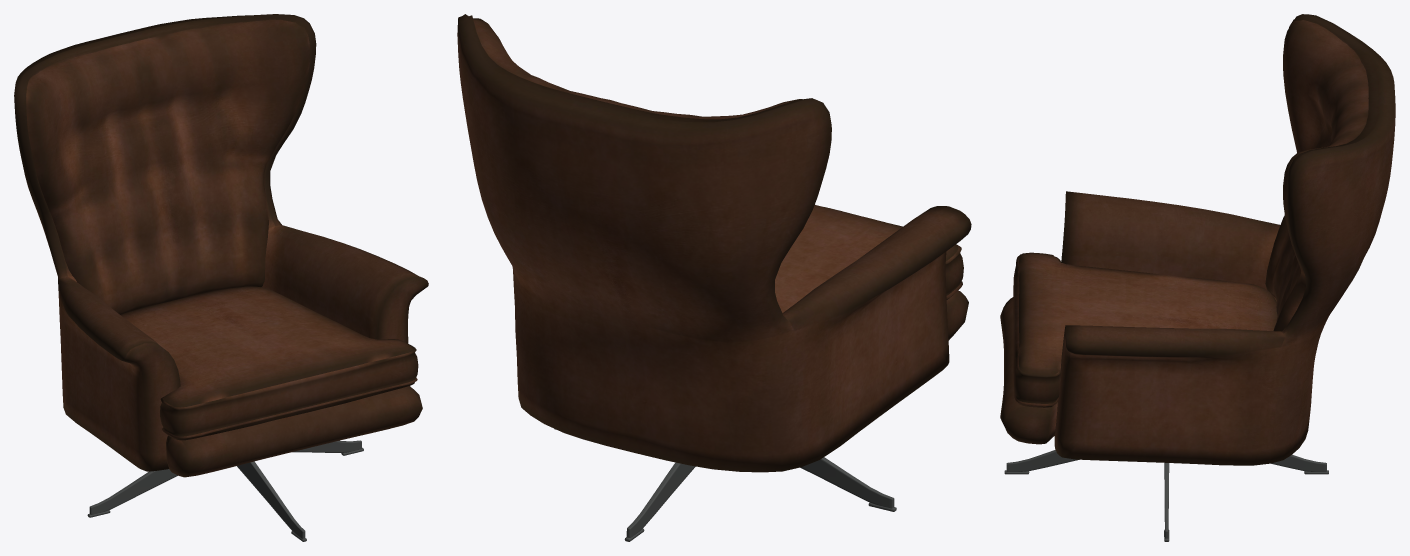
The model's file is laedther_chairs.glb.
3 renders of one model, left to right at view 1: azimuth 30°, elevation 25°; view 2: azimuth 150°, elevation 25°; view 3: azimuth 270°, elevation 25°, orthographic. The views are drawn at different scales.
Visible parts, largest first — view 1: armchair_inside_low_poly.001, armchair_back_low_poly.001, armchair_top_low_poly.001, armchair_bottom_low_poly.001, armchair_stand_low_poly.001; view 2: armchair_back_low_poly.001, armchair_top_low_poly.001, armchair_stand_low_poly.001, armchair_inside_low_poly.001, armchair_bottom_low_poly.001; view 3: armchair_back_low_poly.001, armchair_top_low_poly.001, armchair_inside_low_poly.001, armchair_bottom_low_poly.001, armchair_stand_low_poly.001.
Boxes of the visible parts, <box> form: armchair_inside_low_poly.001: <box>26,19,310,314</box>; armchair_back_low_poly.001: <box>14,14,428,471</box>; armchair_top_low_poly.001: <box>121,286,418,440</box>; armchair_bottom_low_poly.001: <box>166,386,422,477</box>; armchair_stand_low_poly.001: <box>87,440,363,541</box>; armchair_back_low_poly.001: <box>457,14,971,472</box>; armchair_top_low_poly.001: <box>775,205,963,312</box>; armchair_stand_low_poly.001: <box>554,429,896,541</box>; armchair_inside_low_poly.001: <box>473,18,802,119</box>; armchair_bottom_low_poly.001: <box>946,290,968,340</box>; armchair_back_low_poly.001: <box>1054,14,1395,465</box>; armchair_top_low_poly.001: <box>1013,252,1277,407</box>; armchair_inside_low_poly.001: <box>1265,20,1368,331</box>; armchair_bottom_low_poly.001: <box>1000,297,1057,444</box>; armchair_stand_low_poly.001: <box>1004,450,1328,541</box>.
Bounding box in the file's own units: 0.8079 × 0.9692 × 0.8873.
Materials: 1 (1 with a texture image).
